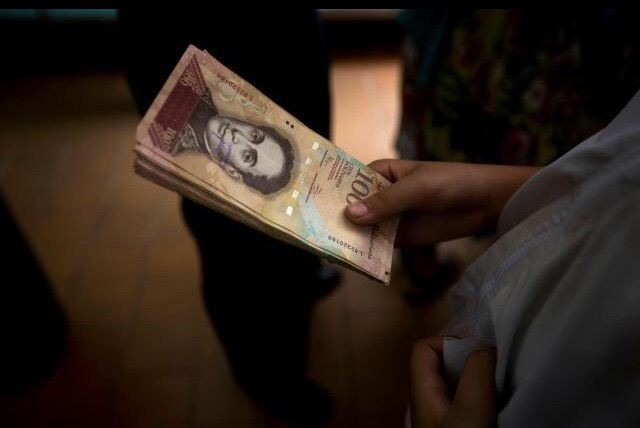billete: (132, 45, 401, 285)
